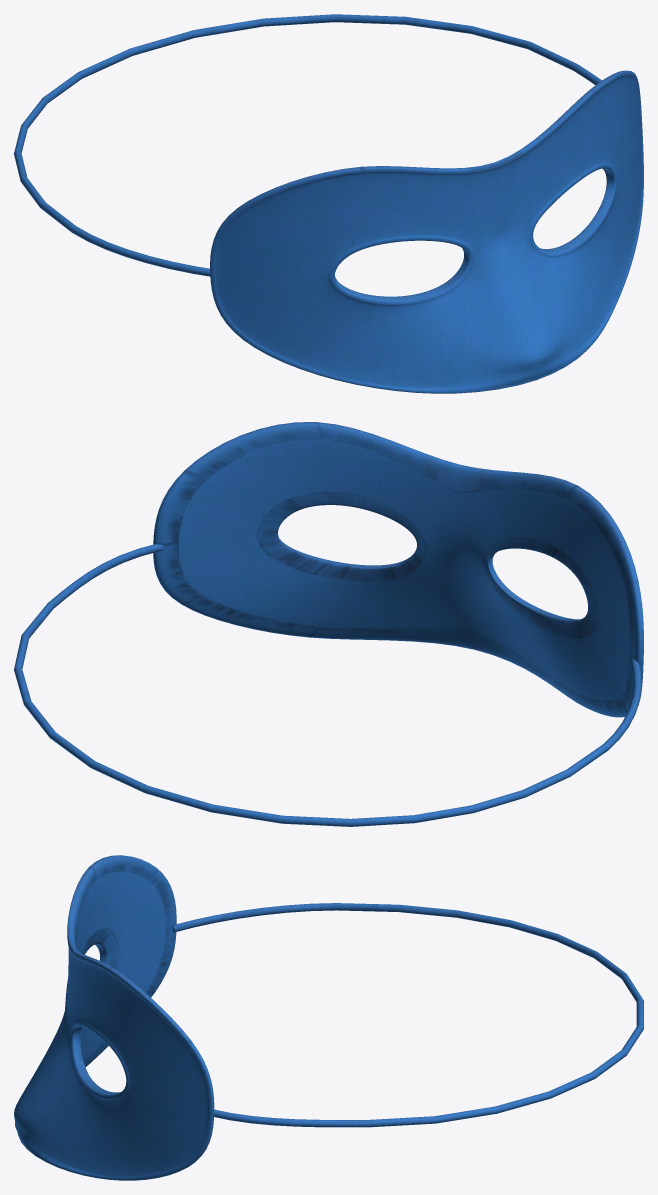
Rendered from pomme-b2.glb.
3 renders of one model, top to bottom at view 1: azimuth 30°, elevation 25°; view 2: azimuth 150°, elevation 25°; view 3: azimuth 270°, elevation 25°, orthographic. The views are drawn at different scales.
Parts seen in each view (by area): view 1: Box002, Circle009; view 2: Box002, Circle009; view 3: Box002, Circle009.
Part boxes in pixels (<box>): Box002: <box>210,70,643,393</box>; Circle009: <box>14,14,601,276</box>; Box002: <box>153,422,643,717</box>; Circle009: <box>14,544,641,826</box>; Box002: <box>14,855,214,1180</box>; Circle009: <box>173,903,643,1127</box>.
Size of what is drawn, in the model's own units: 0.0476 by 0.02 by 0.0523.
2 materials, 2 textured.
